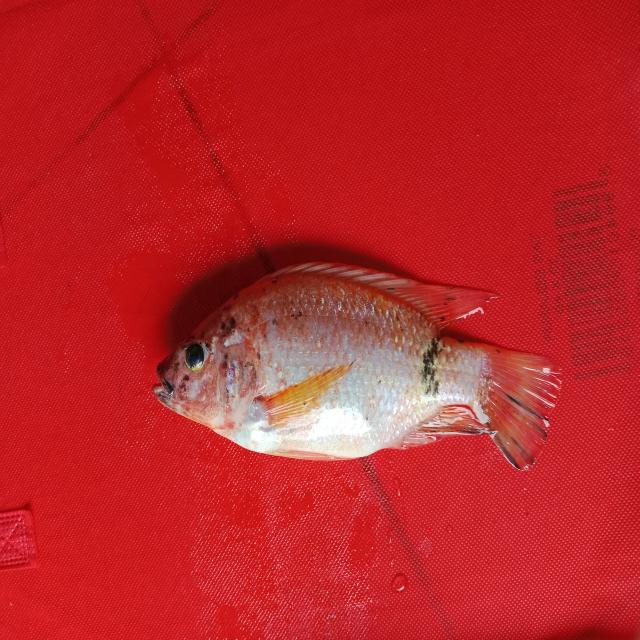ikan: (136, 228, 571, 489)
